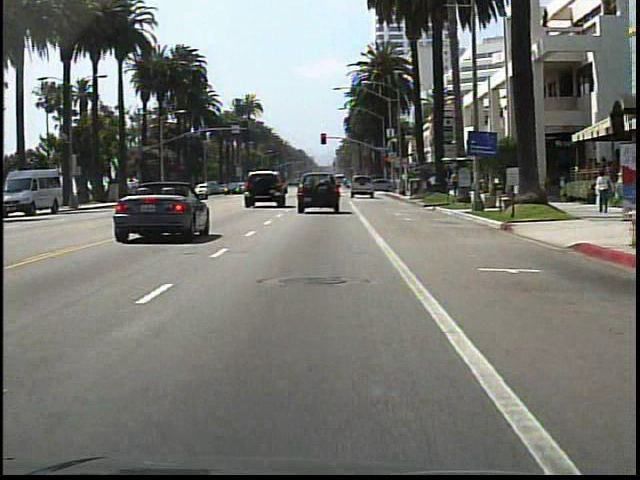person: (591, 168, 610, 217), (426, 171, 440, 196)
